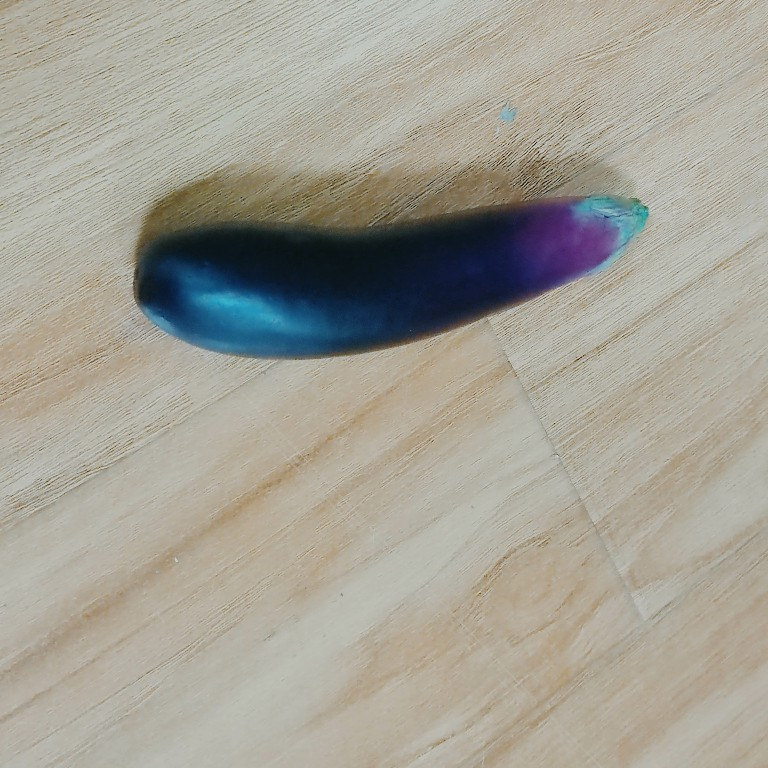fruit_eggplant: (129, 191, 651, 361)
